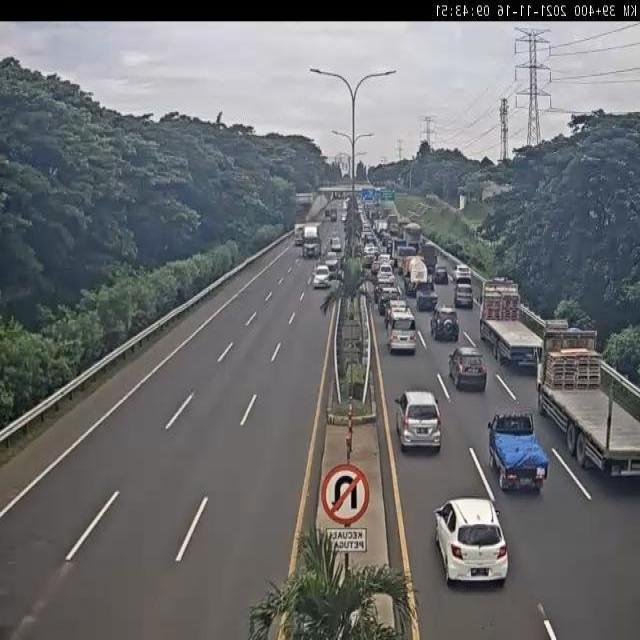Car: (429, 490, 511, 592), (395, 389, 442, 452), (448, 346, 487, 392), (427, 306, 462, 342), (389, 310, 416, 350), (372, 286, 403, 315), (454, 282, 474, 308), (312, 264, 332, 288), (454, 264, 472, 284), (378, 272, 394, 292), (434, 265, 448, 284), (325, 252, 338, 270), (362, 252, 374, 269), (330, 236, 342, 252), (378, 253, 391, 267), (371, 258, 381, 275), (341, 213, 347, 223)
Truck: (537, 330, 640, 479), (479, 282, 540, 371), (487, 410, 548, 491), (402, 255, 430, 292), (302, 218, 324, 260), (404, 223, 422, 251), (294, 223, 305, 246), (386, 213, 398, 231)
